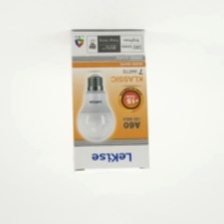carton: (65, 25, 154, 177)
